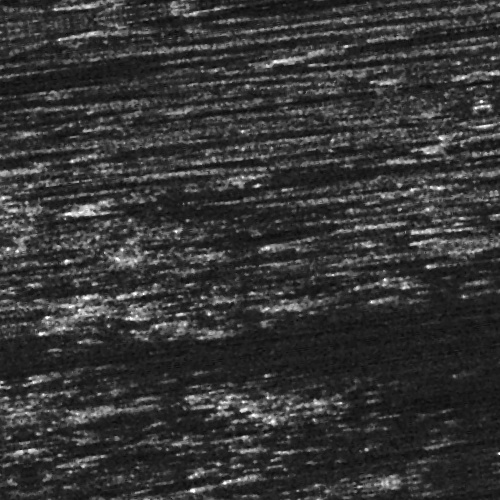object: (73, 3, 198, 16), (311, 56, 416, 69), (105, 101, 210, 110), (2, 132, 85, 143), (18, 431, 81, 440), (104, 478, 135, 485), (218, 469, 259, 474)
shadow: (44, 132, 374, 143), (136, 3, 401, 16), (0, 47, 233, 60), (0, 40, 267, 47), (0, 68, 187, 77), (158, 101, 326, 110), (364, 56, 455, 69), (0, 87, 103, 96), (49, 431, 151, 440), (120, 478, 213, 485), (239, 469, 335, 474)
